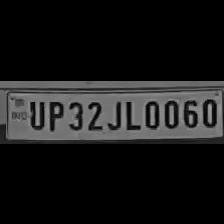0: (198, 94, 218, 128), (140, 96, 160, 128), (160, 96, 180, 128)
2: (84, 96, 104, 130)
3: (64, 96, 84, 130)
6: (180, 94, 198, 128)
J: (105, 96, 123, 130)
L: (120, 96, 140, 130)
P: (44, 97, 64, 130)
U: (25, 96, 45, 130)
